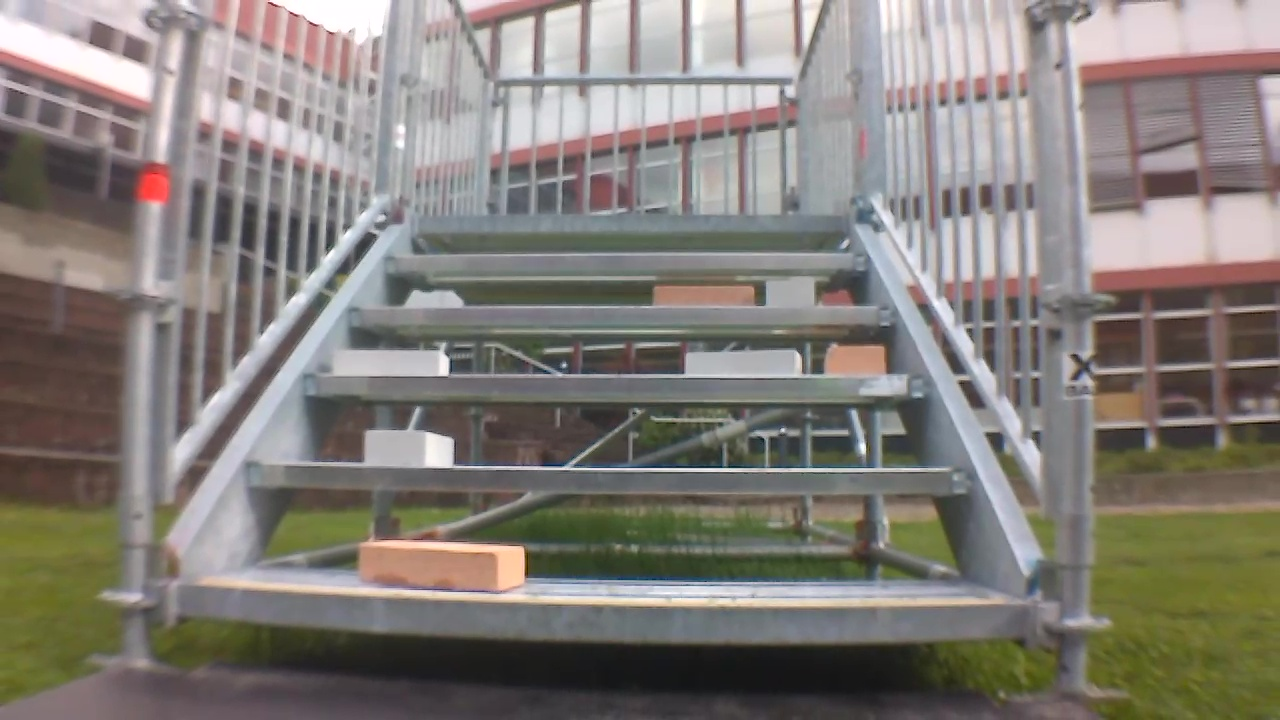brick: (359, 543, 523, 593), (365, 430, 453, 466), (686, 350, 802, 376), (332, 350, 449, 375), (652, 285, 754, 305), (829, 345, 884, 373), (767, 279, 815, 305)
edge: (175, 585, 1030, 642), (244, 462, 968, 495), (303, 375, 927, 399), (347, 306, 900, 325), (381, 252, 869, 271), (409, 214, 852, 232)
stairs: (97, 2, 1117, 703)
steps: (167, 211, 1035, 652)
